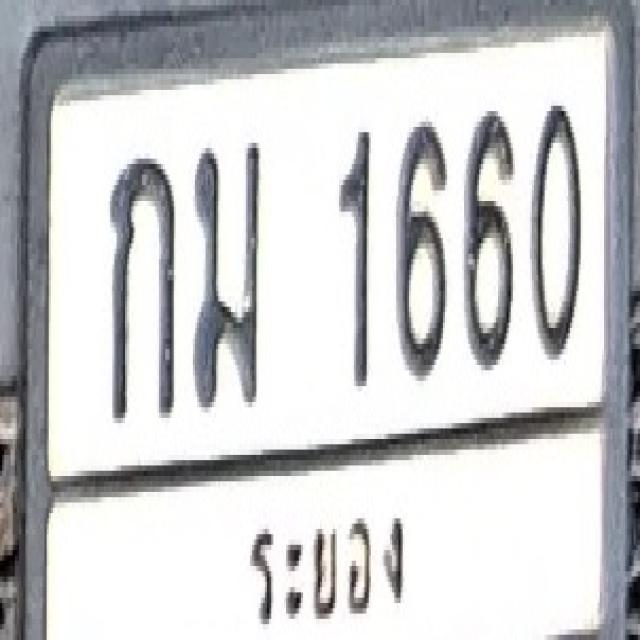0: (531, 98, 582, 357)
1: (337, 124, 371, 383)
6: (464, 106, 515, 365), (396, 117, 447, 376)
A01: (108, 150, 176, 420)
A33: (193, 138, 261, 408)
